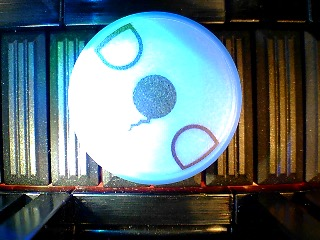CRACK: (67, 10, 243, 186)
